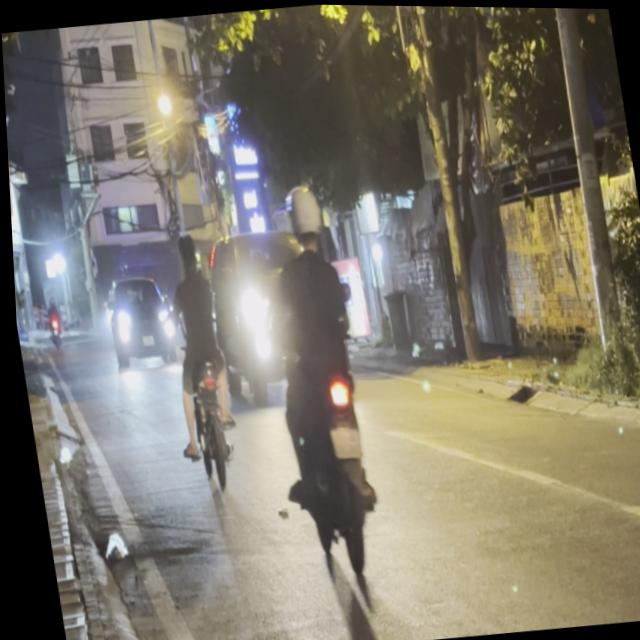helmet: (279, 179, 325, 251)
licenseplate: (233, 176, 391, 582), (145, 224, 245, 498)
motorcyclist: (171, 228, 197, 273)
nohelmet: (325, 423, 357, 456)
